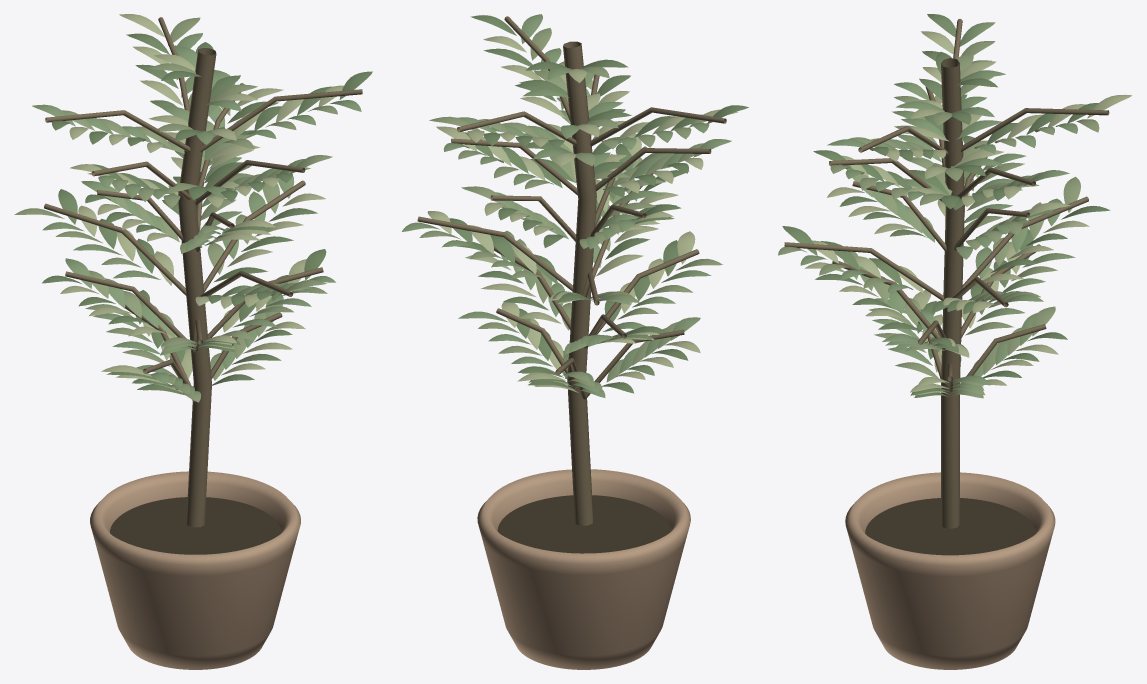
File: olive-tree.glb
The picture shows the model from 3 angles, left to right: view 1: azimuth 30°, elevation 25°; view 2: azimuth 150°, elevation 25°; view 3: azimuth 270°, elevation 25°; orthographic projection.
Parts seen in each view (by area): view 1: Hand-thrown ceramic pot, Stem, Tapered curved leaf.002, Tapered curved leaf, Tapered curved leaf.001, Tapered curved leaf.003, Soil; view 2: Hand-thrown ceramic pot, Stem, Tapered curved leaf, Tapered curved leaf.002, Tapered curved leaf.003, Tapered curved leaf.001, Soil; view 3: Hand-thrown ceramic pot, Stem, Tapered curved leaf.003, Tapered curved leaf.001, Tapered curved leaf.002, Tapered curved leaf, Soil.
Part boxes in pixels (x1=…): Hand-thrown ceramic pot: x1=90, y1=471, x2=300, y2=669; Stem: x1=44, y1=17, x2=362, y2=527; Tapered curved leaf.002: x1=60, y1=14, x2=343, y2=391; Tapered curved leaf: x1=42, y1=33, x2=372, y2=394; Tapered curved leaf.001: x1=14, y1=17, x2=337, y2=402; Tapered curved leaf.003: x1=32, y1=33, x2=361, y2=395; Soil: x1=110, y1=497, x2=281, y2=554; Hand-thrown ceramic pot: x1=477, y1=469, x2=690, y2=669; Stem: x1=417, y1=16, x2=726, y2=525; Tapered curved leaf: x1=449, y1=15, x2=748, y2=393; Tapered curved leaf.002: x1=427, y1=36, x2=737, y2=392; Tapered curved leaf.003: x1=402, y1=14, x2=731, y2=397; Tapered curved leaf.001: x1=419, y1=28, x2=722, y2=389; Soil: x1=497, y1=495, x2=670, y2=553; Hand-thrown ceramic pot: x1=845, y1=472, x2=1055, y2=669; Stem: x1=784, y1=19, x2=1109, y2=528; Tapered curved leaf.003: x1=800, y1=22, x2=1077, y2=397; Tapered curved leaf.001: x1=778, y1=41, x2=1099, y2=398; Tapered curved leaf.002: x1=804, y1=31, x2=1132, y2=395; Tapered curved leaf: x1=782, y1=14, x2=1110, y2=397; Soil: x1=865, y1=498, x2=1035, y2=555.
Size of the model in its own units: 1.01 by 1.9 by 1.05.
